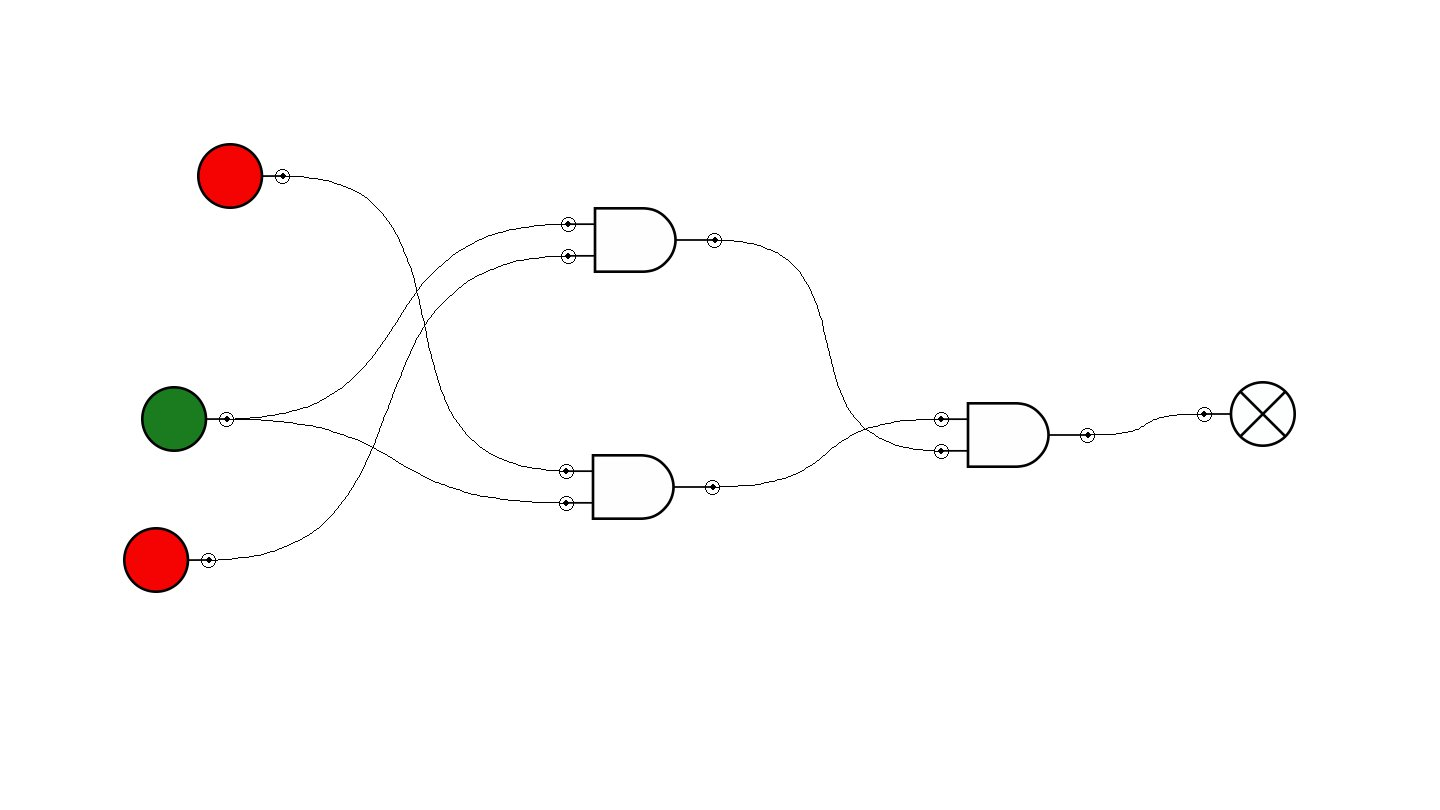and: (934, 402, 1095, 468), (559, 454, 720, 520), (561, 207, 722, 273)
bulb: (1197, 381, 1296, 447)
switch_False: (197, 143, 290, 209), (123, 527, 216, 593)
switch_True: (141, 386, 234, 452)
